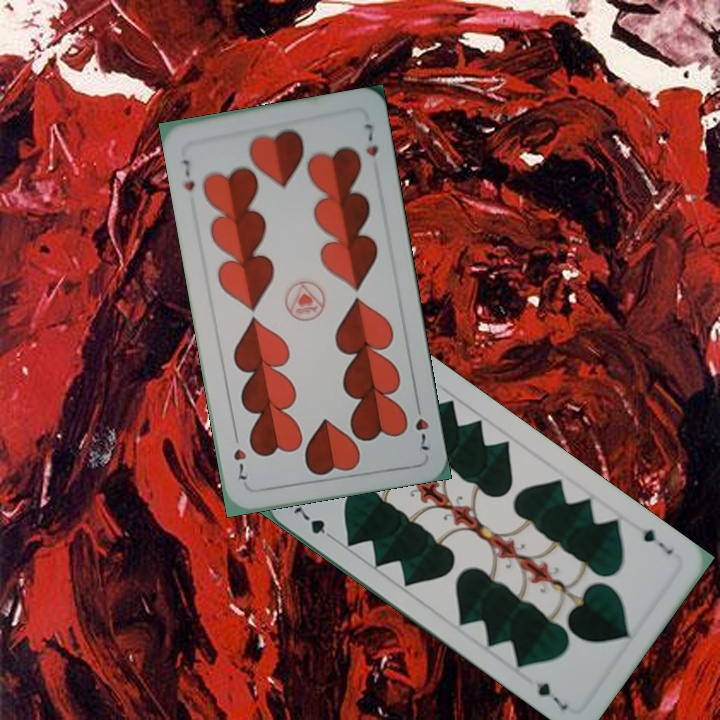G7: (289, 501, 339, 544), (638, 525, 676, 558)
H7: (411, 397, 432, 453), (176, 155, 197, 194)
